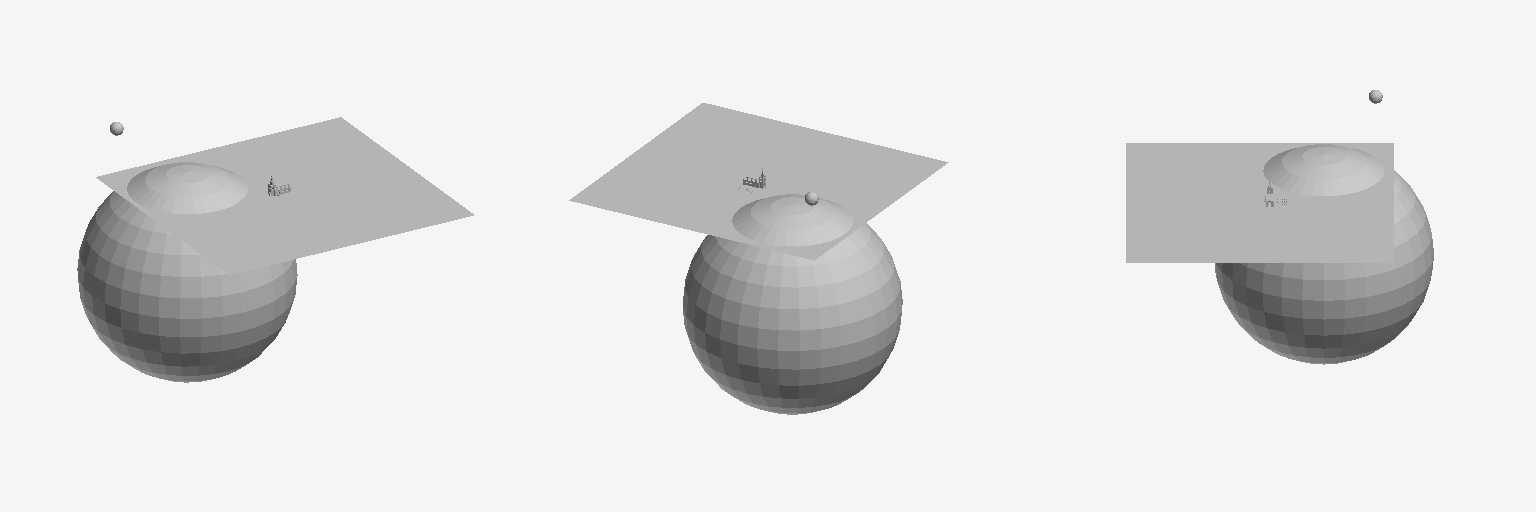
The model's file is Church-scene.obj.
3 views of the same model, side by side, from view 1: azimuth 30°, elevation 25°; view 2: azimuth 150°, elevation 25°; view 3: azimuth 270°, elevation 25° (orthographic).
Visible parts, largest first — view 1: Sphere.002_Sphere.004, Ground.012_Plane.020, Ground.005_Plane.013, Ground.006_Plane.014, Ground.007_Plane.015, Ground.008_Plane.016, Ground.013_Plane.021, Ground.014_Plane.022, Ground.004_Plane.012, Ground.002_Plane.010, Ground.009_Plane.017, Ground.011_Plane.019 (+1 smaller); view 2: Sphere.002_Sphere.004, Ground.012_Plane.020, Ground.006_Plane.014, Ground.011_Plane.019, Ground.007_Plane.015, Ground.005_Plane.013, Ground.014_Plane.022, Ground.013_Plane.021, Ground.004_Plane.012, Ground.002_Plane.010, Ground.010_Plane.018, Ground.009_Plane.017 (+1 smaller); view 3: Sphere.002_Sphere.004, Ground.013_Plane.021, Ground.014_Plane.022, Ground.006_Plane.014, Ground.002_Plane.010, Ground.005_Plane.013, Ground.010_Plane.018, Ground.008_Plane.016, Ground.007_Plane.015, Ground.004_Plane.012, Ground.012_Plane.020, Ground.003_Plane.011 (+2 smaller).
Part boxes in pixels (bbox=[...]): Sphere.002_Sphere.004: bbox=[77, 162, 297, 382]; Ground.012_Plane.020: bbox=[263, 206, 408, 258]; Ground.005_Plane.013: bbox=[270, 147, 413, 198]; Ground.006_Plane.014: bbox=[161, 200, 305, 249]; Ground.007_Plane.015: bbox=[304, 170, 439, 216]; Ground.008_Plane.016: bbox=[241, 122, 380, 170]; Ground.013_Plane.021: bbox=[195, 233, 339, 274]; Ground.014_Plane.022: bbox=[362, 190, 473, 232]; Ground.004_Plane.012: bbox=[233, 150, 337, 192]; Ground.002_Plane.010: bbox=[232, 192, 373, 232]; Ground.009_Plane.017: bbox=[96, 150, 240, 201]; Ground.011_Plane.019: bbox=[229, 117, 374, 162]; Sphere.002_Sphere.004: bbox=[683, 194, 902, 414]; Ground.012_Plane.020: bbox=[738, 119, 879, 170]; Ground.006_Plane.014: bbox=[768, 162, 913, 209]; Ground.011_Plane.019: bbox=[569, 175, 711, 224]; Ground.007_Plane.015: bbox=[634, 128, 775, 178]; Ground.005_Plane.013: bbox=[610, 147, 754, 197]; Ground.014_Plane.022: bbox=[669, 103, 779, 148]; Ground.013_Plane.021: bbox=[834, 137, 948, 187]; Ground.004_Plane.012: bbox=[655, 172, 761, 215]; Ground.002_Plane.010: bbox=[714, 144, 830, 194]; Ground.010_Plane.018: bbox=[630, 210, 734, 237]; Ground.009_Plane.017: bbox=[713, 210, 848, 260]; Sphere.002_Sphere.004: bbox=[1215, 144, 1433, 364]; Ground.013_Plane.021: bbox=[1126, 143, 1194, 197]; Ground.014_Plane.022: bbox=[1126, 208, 1194, 262]; Ground.006_Plane.014: bbox=[1195, 143, 1263, 197]; Ground.002_Plane.010: bbox=[1195, 181, 1263, 230]; Ground.005_Plane.013: bbox=[1244, 208, 1312, 262]; Ground.010_Plane.018: bbox=[1325, 188, 1393, 238]; Ground.008_Plane.016: bbox=[1312, 208, 1380, 262]; Ground.007_Plane.015: bbox=[1195, 226, 1263, 262]; Ground.004_Plane.012: bbox=[1275, 197, 1343, 232]; Ground.012_Plane.020: bbox=[1126, 176, 1194, 230]; Ground.003_Plane.011: bbox=[1256, 143, 1324, 197].
Size of the model in its own units: 285 by 232 by 268.